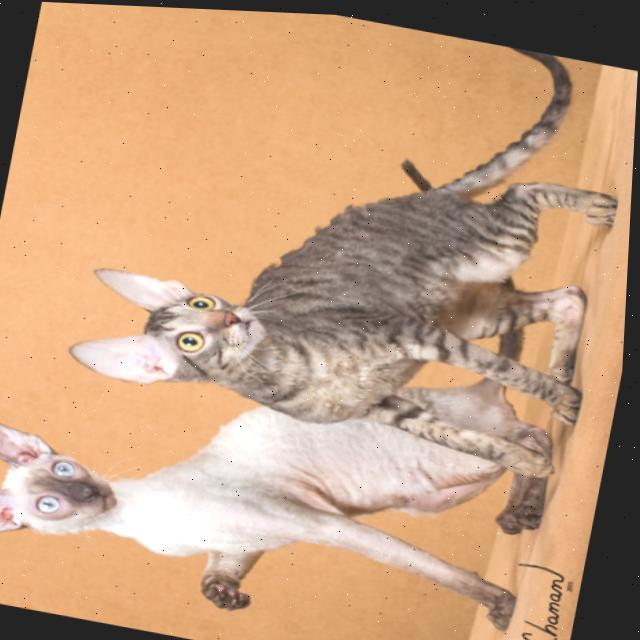Cornish Rex: (55, 3, 640, 486), (0, 350, 564, 640)
